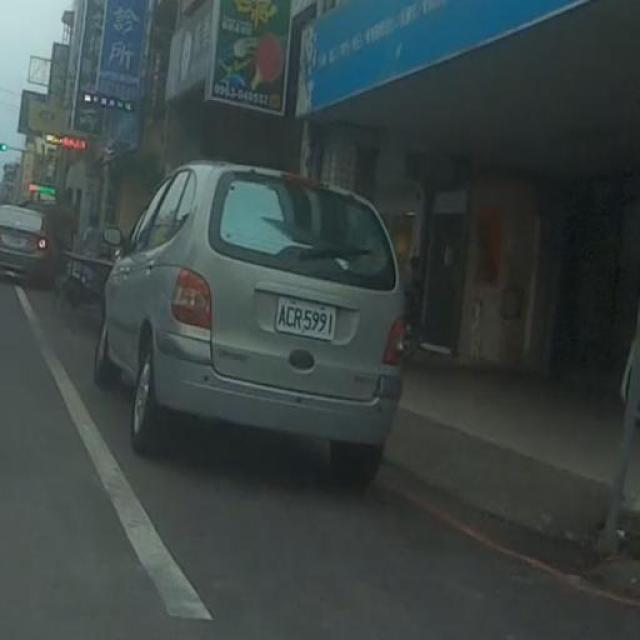illegalparking: (68, 121, 468, 501)
